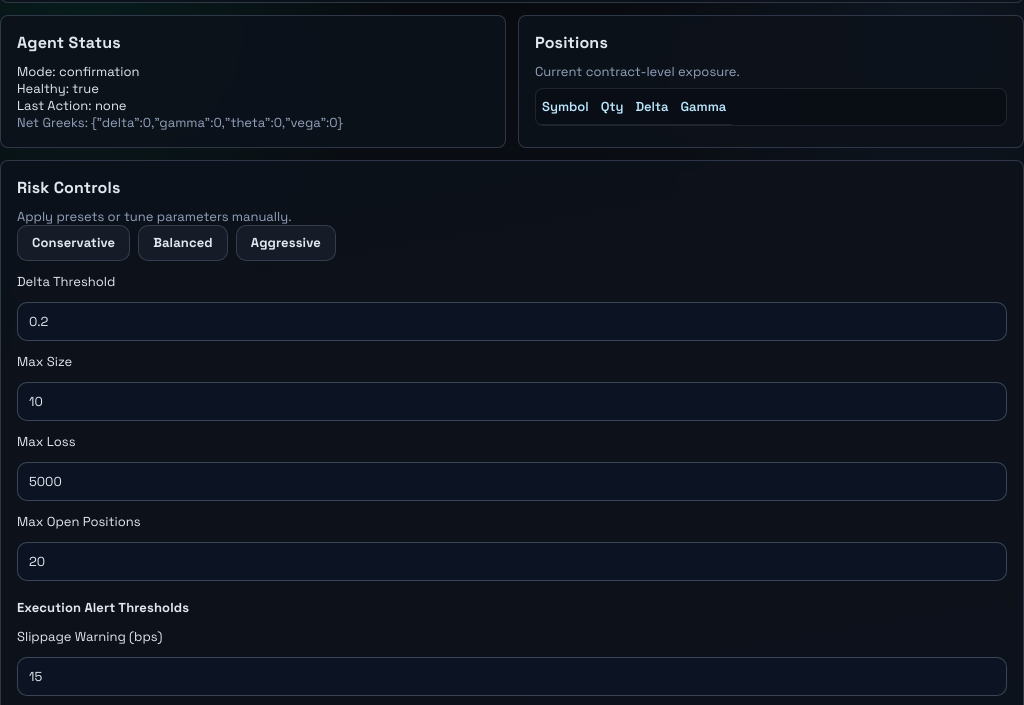
it: DashboardPage Risk Controls › submits parsed risk payload
(page scrolled)
Replace the text in the field labelled "Delta Threshold" with "0.35" at (512, 321), box x1=17 y1=302 x2=1007 y2=340
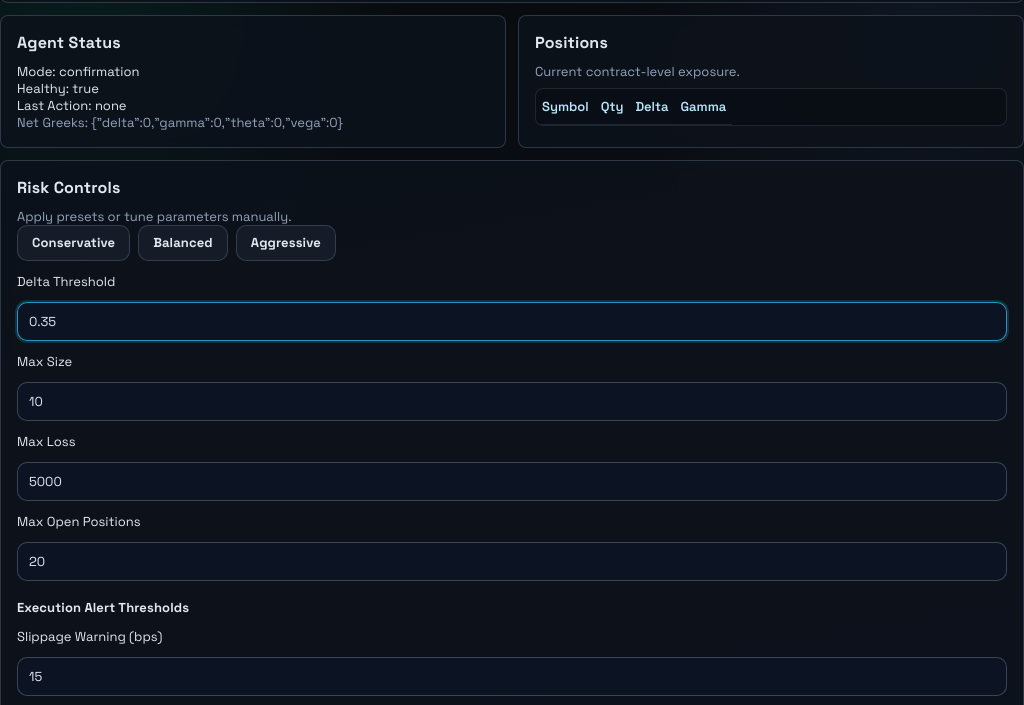
Replace the text in the field labelled "Max Size" with "15" at (512, 401), box x1=17 y1=382 x2=1007 y2=420
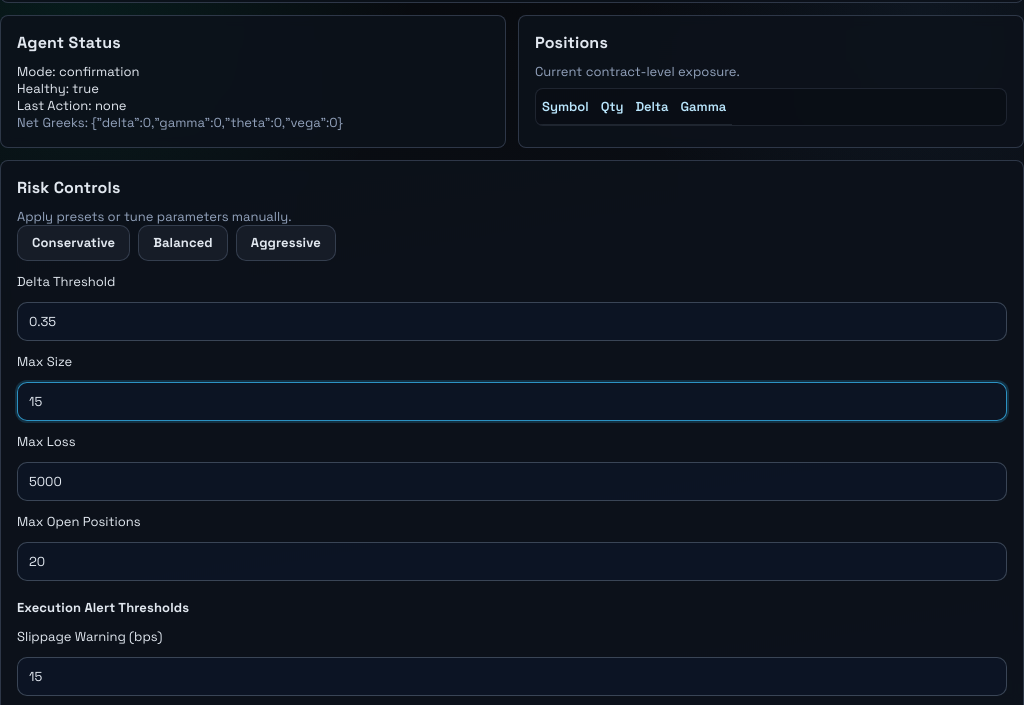
Replace the text in the field labelled "Max Loss" with "8000" at (512, 481), box x1=17 y1=462 x2=1007 y2=500
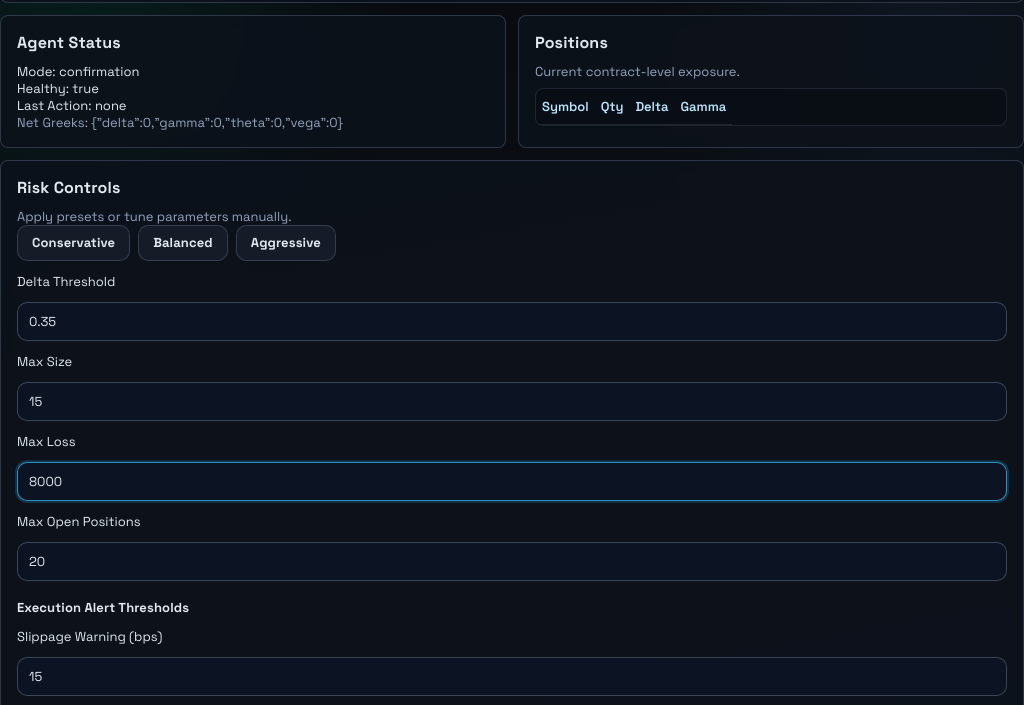
Replace the text in the field labelled "Max Open Positions" with "25" at (512, 561), box x1=17 y1=542 x2=1007 y2=580
(page scrolled)
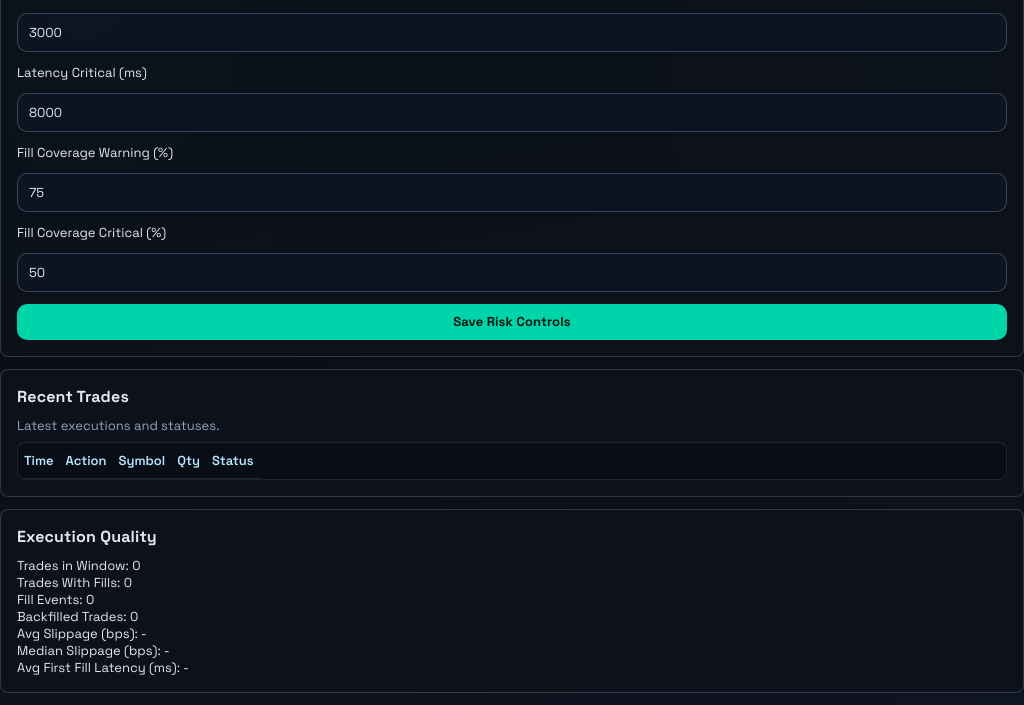
Click the button "Save Risk Controls".
click(512, 322)  # box x1=17 y1=304 x2=1007 y2=340
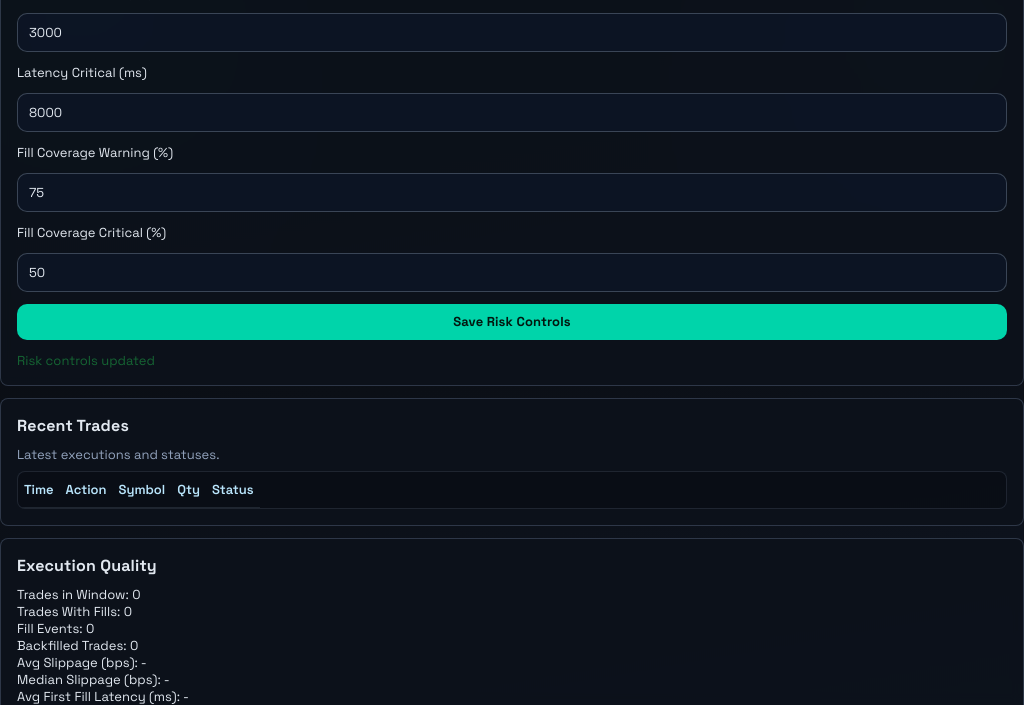
Result: the text "Risk controls updated" is shown at x1=17 y1=352 x2=155 y2=368
